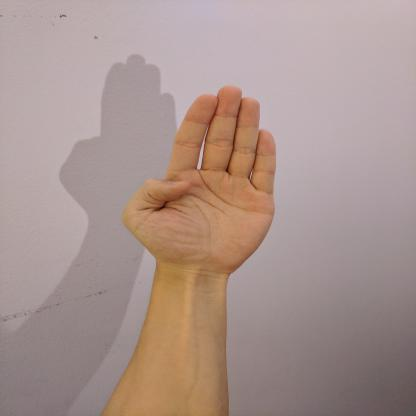B: (118, 82, 283, 282)
